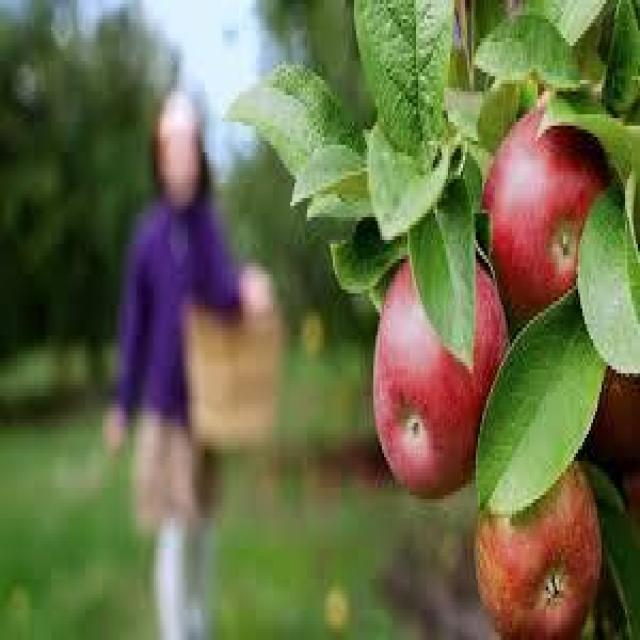fruit: (374, 256, 508, 497), (474, 436, 610, 640), (483, 110, 611, 326), (585, 360, 640, 470)
